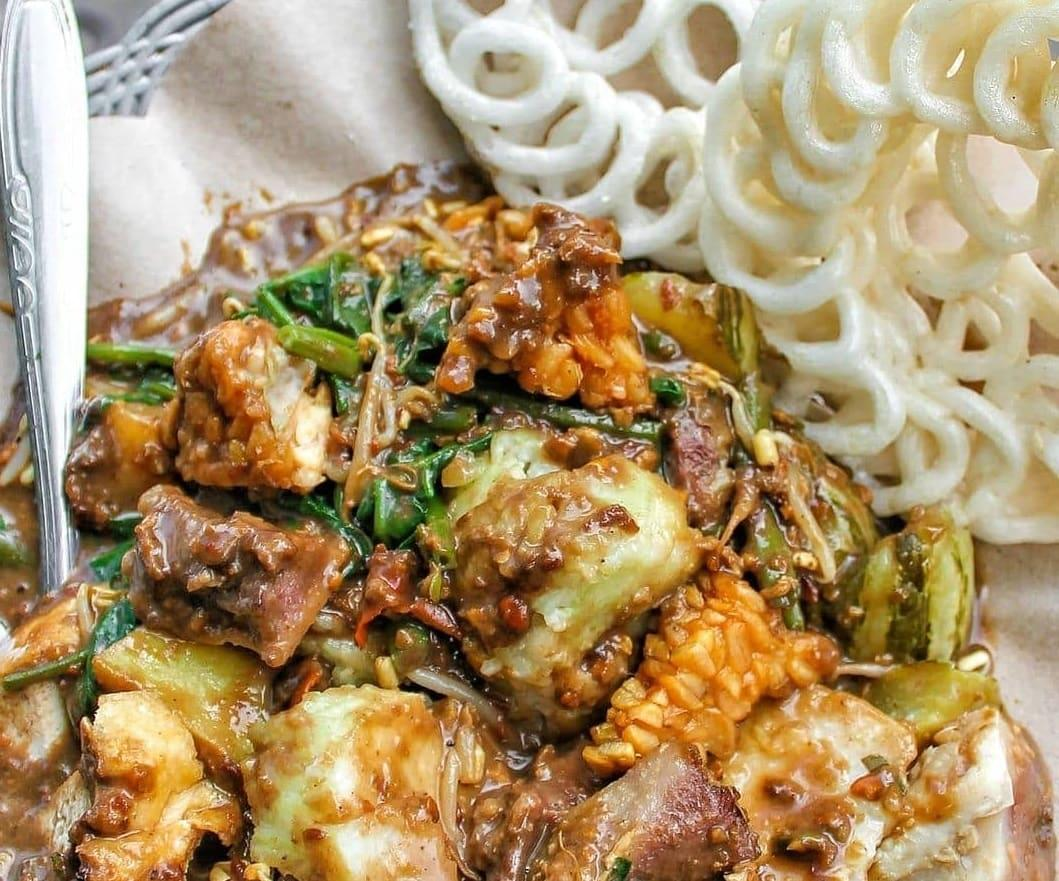rujak_cingur: (4, 206, 1059, 881)
